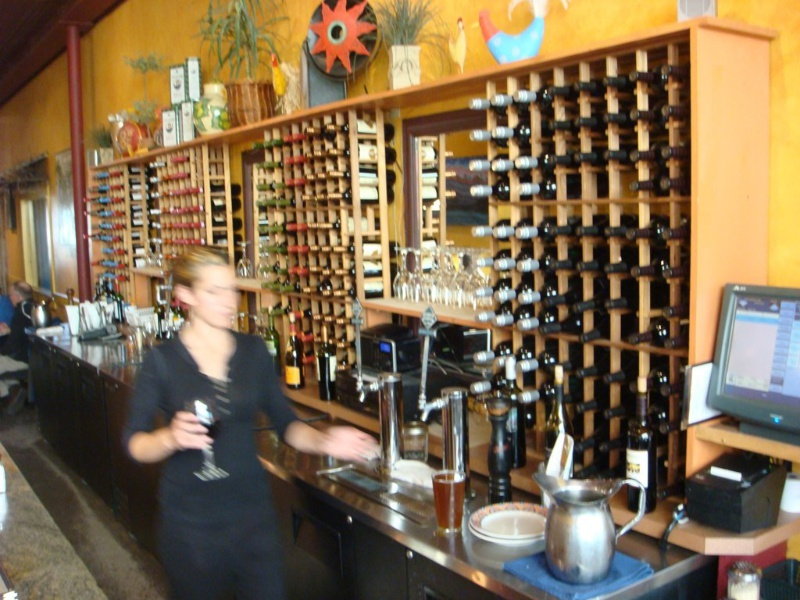wine: (460, 66, 680, 500), (281, 93, 377, 395), (84, 148, 143, 316), (147, 154, 207, 251)
